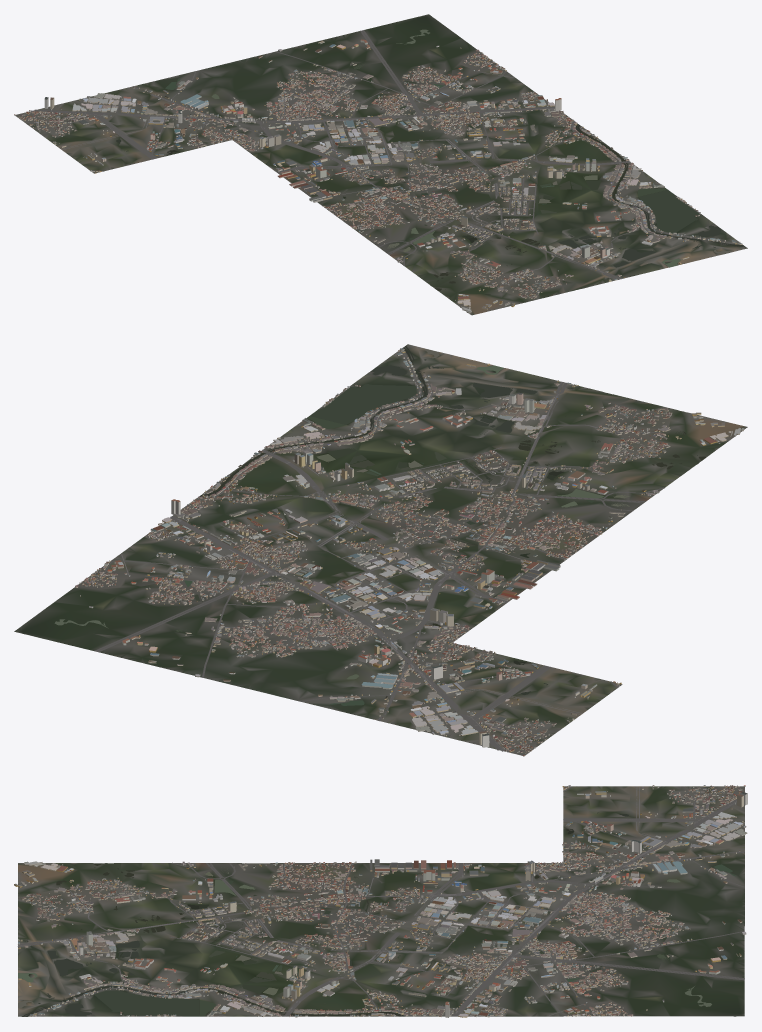
3 renders of one model, top to bottom at view 1: azimuth 30°, elevation 25°; view 2: azimuth 150°, elevation 25°; view 3: azimuth 270°, elevation 25°, orthographic. The views are drawn at different scales.
Parts seen in each view (by area): view 1: ground, buildings, roads, water; view 2: ground, buildings, roads, water; view 3: ground, buildings, roads, water.
Boxes of the visible parts, x1,y1,x2,y2 form: ground: [15, 14, 747, 315]; buildings: [14, 39, 742, 313]; roads: [21, 30, 737, 287]; water: [116, 29, 745, 294]; ground: [14, 344, 747, 755]; buildings: [75, 348, 744, 756]; roads: [87, 350, 664, 752]; water: [54, 346, 705, 705]; ground: [18, 786, 744, 1016]; buildings: [14, 785, 747, 1017]; roads: [17, 786, 744, 1016]; water: [18, 812, 735, 1016].
Size of the model in its own units: 4227 by 113 by 5662.
